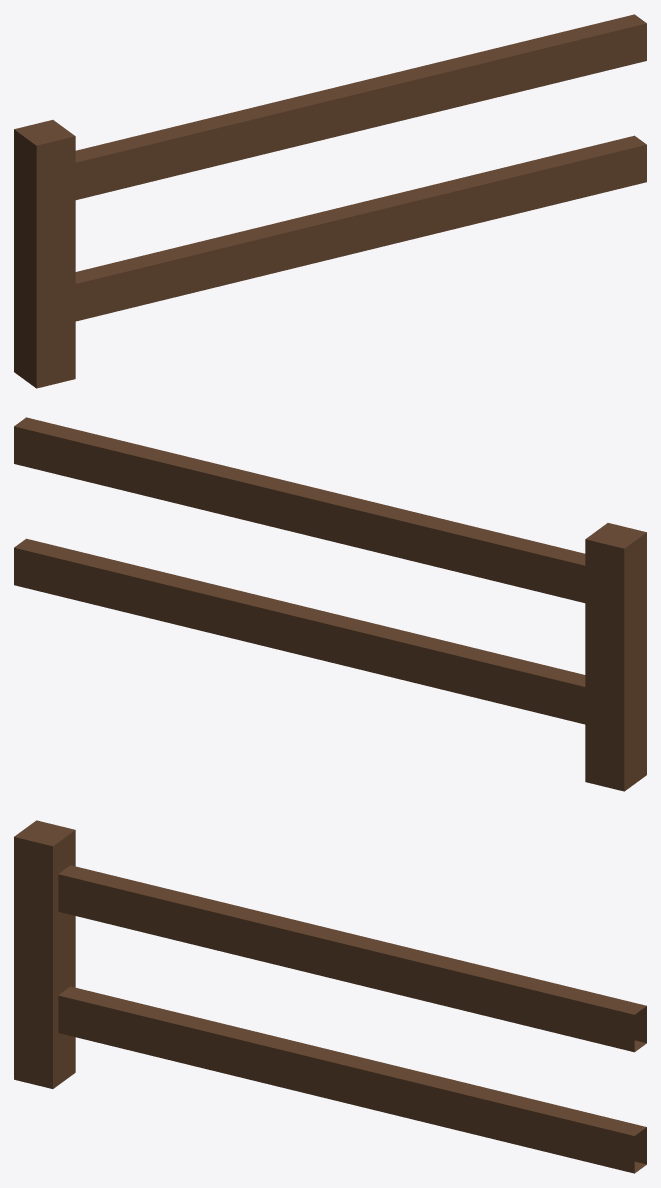
Rendered from Stable_fence_mat.fbx.
3 renders of one model, top to bottom at view 1: azimuth 30°, elevation 25°; view 2: azimuth 150°, elevation 25°; view 3: azimuth 330°, elevation 25°, orthographic.
Parts seen in each view (by area): view 1: Stable_fence_mat; view 2: Stable_fence_mat; view 3: Stable_fence_mat.
Part boxes in pixels (x1,y1,x2,y2): Stable_fence_mat: (14, 14, 646, 388); Stable_fence_mat: (14, 417, 646, 791); Stable_fence_mat: (14, 820, 646, 1173).
Size of the model in its own units: 179 by 67.66 by 11.39.
